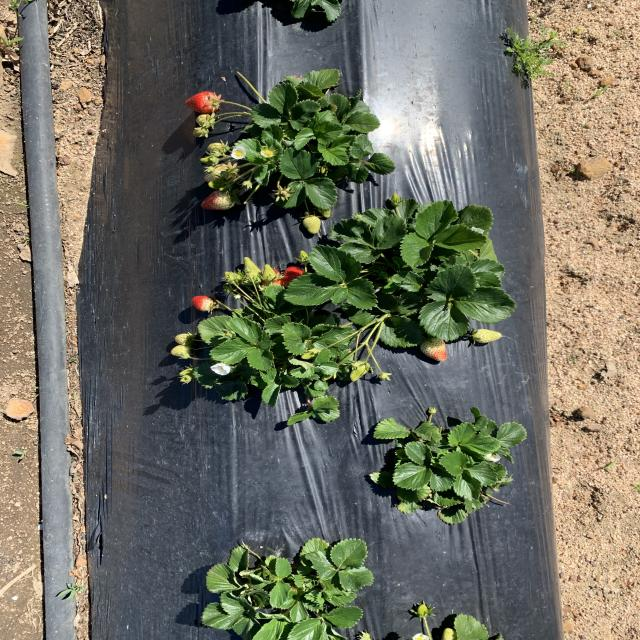unripe: (281, 264, 313, 296), (183, 90, 222, 113), (192, 296, 215, 310)
